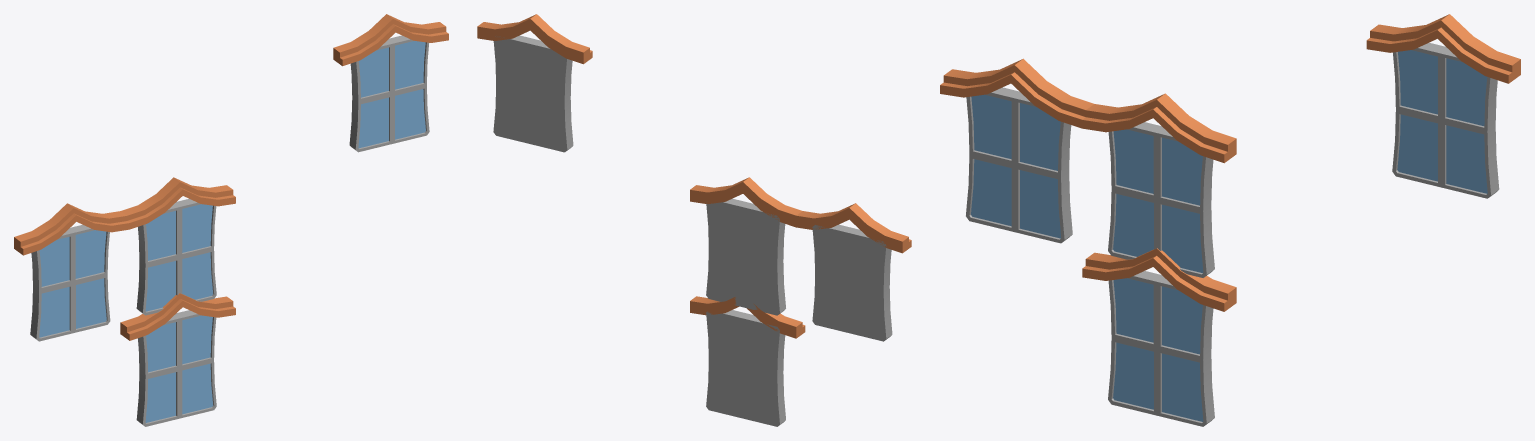
File: Test_serie.glb
3 renders of one model, left to right at view 1: azimuth 30°, elevation 25°; view 2: azimuth 150°, elevation 25°; view 3: azimuth 330°, elevation 25°, orthographic. The views are drawn at different scales.
Visible parts, largest first — view 1: Window (×4); view 2: Window (×4); view 3: Window (×4).
Boxes of the visible parts, <box> form: Window (×4): <box>14,14,448,426</box>; Window (×4): <box>477,14,911,426</box>; Window (×4): <box>940,14,1520,426</box>.
Size of the model in its own units: 8 by 6.25 by 0.3.
